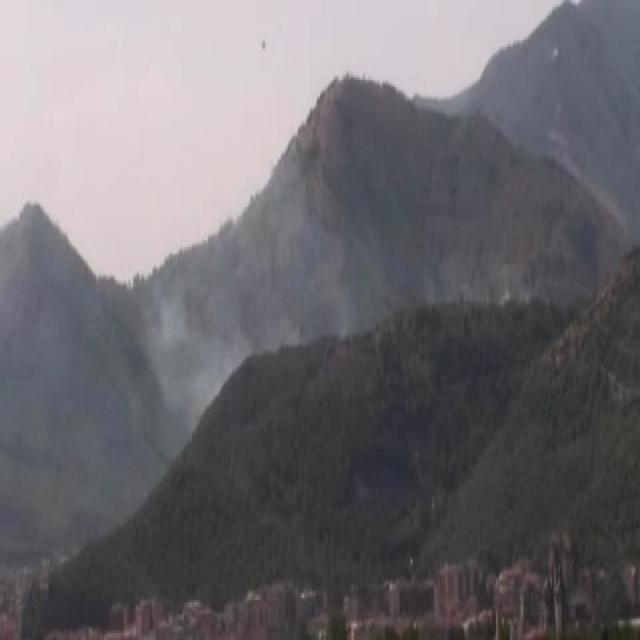smoke: (147, 271, 240, 401)
